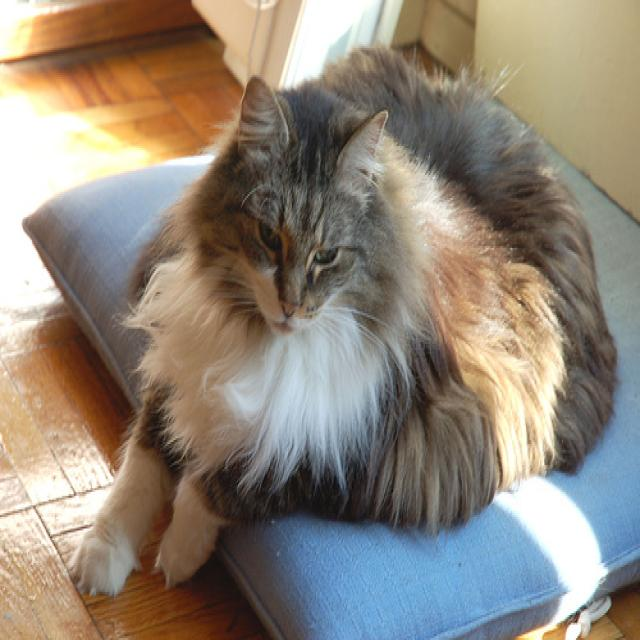left eye: (310, 242, 339, 269)
